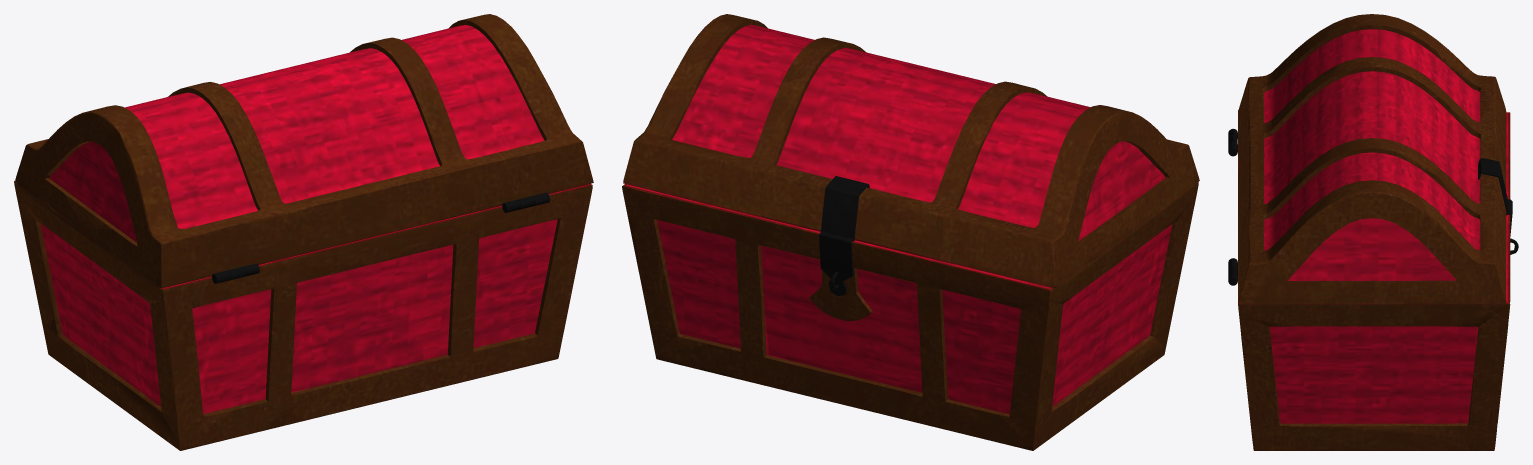
The model's file is chest1.fbx.
The picture shows the model from 3 angles, left to right: view 1: azimuth 30°, elevation 25°; view 2: azimuth 150°, elevation 25°; view 3: azimuth 270°, elevation 25°; orthographic projection. The views are drawn at different scales.
Parts seen in each view (by area): view 1: _aquarium_treasure_chest_v1_L2:aquarium_treasure_chest_metal, _aquarium_treasure_chest_v1_L2:aquarium_treasure_chest_wood, _aquarium_treasure_chest_v1_L2:aquarium_treasure_chest_latch; view 2: _aquarium_treasure_chest_v1_L2:aquarium_treasure_chest_metal, _aquarium_treasure_chest_v1_L2:aquarium_treasure_chest_wood, _aquarium_treasure_chest_v1_L2:aquarium_treasure_chest_latch; view 3: _aquarium_treasure_chest_v1_L2:aquarium_treasure_chest_metal, _aquarium_treasure_chest_v1_L2:aquarium_treasure_chest_wood, _aquarium_treasure_chest_v1_L2:aquarium_treasure_chest_latch.
Part boxes in pixels (x1,y1,x2,y2): _aquarium_treasure_chest_v1_L2:aquarium_treasure_chest_metal: (14,14,593,450); _aquarium_treasure_chest_v1_L2:aquarium_treasure_chest_wood: (40,25,557,413); _aquarium_treasure_chest_v1_L2:aquarium_treasure_chest_latch: (212,192,550,283); _aquarium_treasure_chest_v1_L2:aquarium_treasure_chest_metal: (622,14,1199,450); _aquarium_treasure_chest_v1_L2:aquarium_treasure_chest_wood: (657,25,1172,414); _aquarium_treasure_chest_v1_L2:aquarium_treasure_chest_latch: (819,176,869,295); _aquarium_treasure_chest_v1_L2:aquarium_treasure_chest_metal: (1238,14,1510,450); _aquarium_treasure_chest_v1_L2:aquarium_treasure_chest_wood: (1264,29,1480,423); _aquarium_treasure_chest_v1_L2:aquarium_treasure_chest_latch: (1228,128,1518,285).
Bounding box in the file's own units: 124 × 79.06 × 78.63.
Materials: 3 (3 with a texture image).
